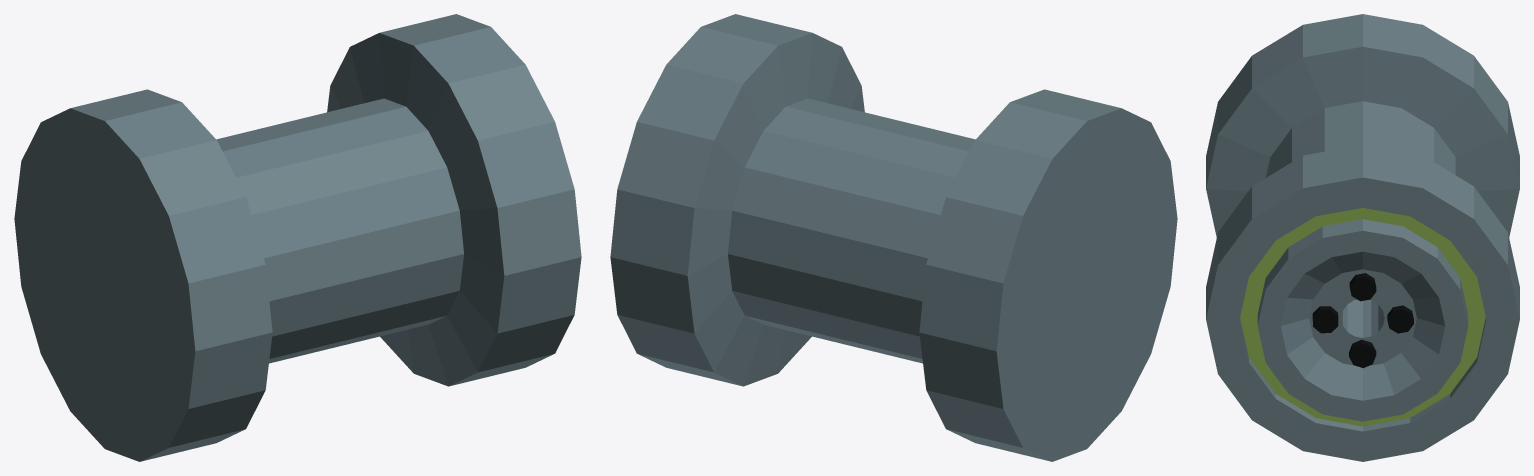
Rendered from wheel_large.glb.
The picture shows the model from 3 angles, left to right: view 1: azimuth 30°, elevation 25°; view 2: azimuth 150°, elevation 25°; view 3: azimuth 270°, elevation 25°; orthographic projection. The views are drawn at different scales.
Visible parts, largest first — view 1: WheelLarge; view 2: WheelLarge; view 3: WheelLarge.
Part boxes in pixels (x1,y1,x2,y2): WheelLarge: [14, 14, 581, 461]; WheelLarge: [610, 14, 1177, 461]; WheelLarge: [1206, 14, 1519, 461].
Size of the model in its own units: 0.7996 by 0.6242 by 0.6242.
1 material, 1 textured.
